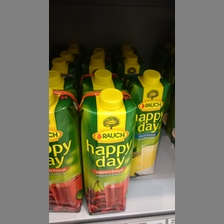juice: (79, 91, 136, 215), (126, 70, 170, 176), (49, 88, 82, 212)
